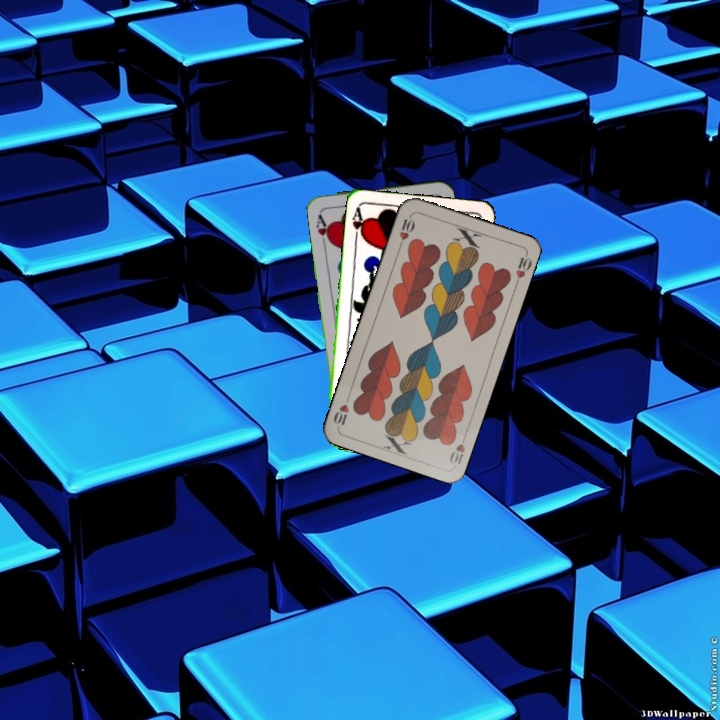H10: (445, 429, 469, 467), (395, 211, 418, 250)
HA: (312, 210, 333, 250), (348, 204, 368, 244)
